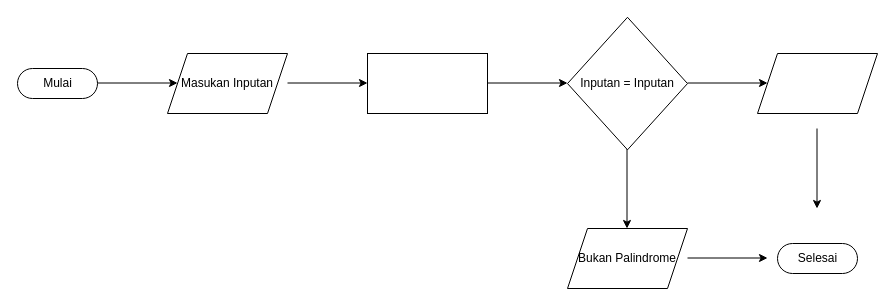
Some shapes in this 895 by 307 pixel diagram are drawn without their labels. Each missing label, with the centre of its shape:
Mengecilkan dan membalikkan semua string yang di input: point (427, 83)
Palindrome: point (817, 83)
